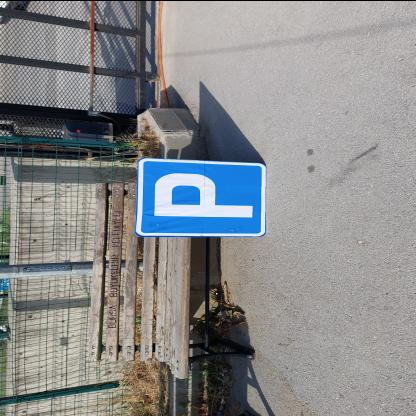Parking-Sign: (138, 157, 268, 237)
